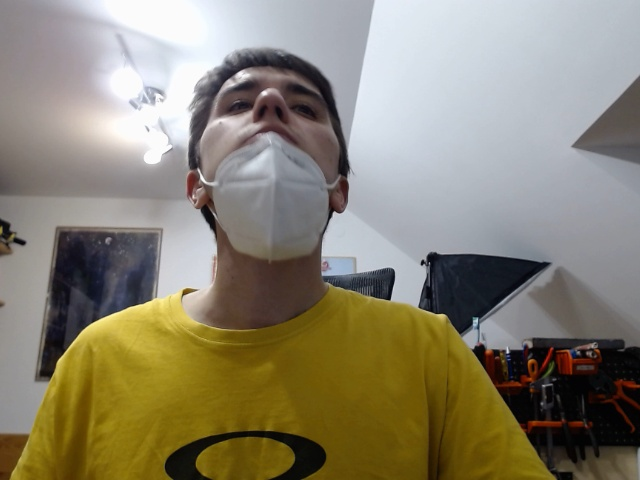WrongMask: (180, 40, 354, 269)
